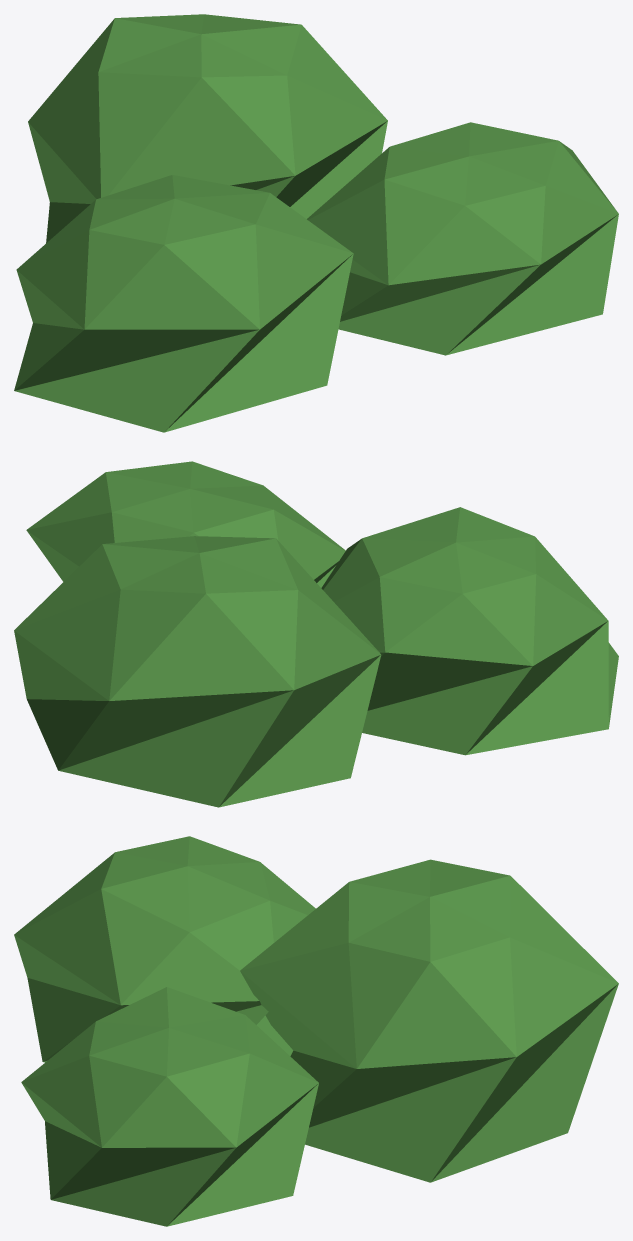
The model's file is item_rm_jade_b.obj.
3 renders of one model, top to bottom at view 1: azimuth 30°, elevation 25°; view 2: azimuth 150°, elevation 25°; view 3: azimuth 270°, elevation 25°, orthographic. The views are drawn at different scales.
Bounding box in the file's own units: 0.8415 × 0.2698 × 0.7494.
